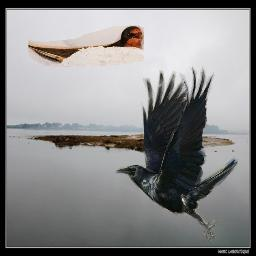Crow: (115, 65, 238, 243)
Swallow: (28, 25, 144, 67)
